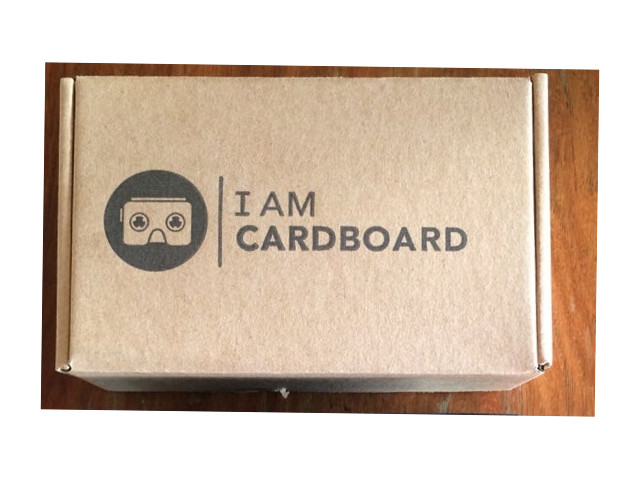cardboard: (63, 75, 547, 386)
